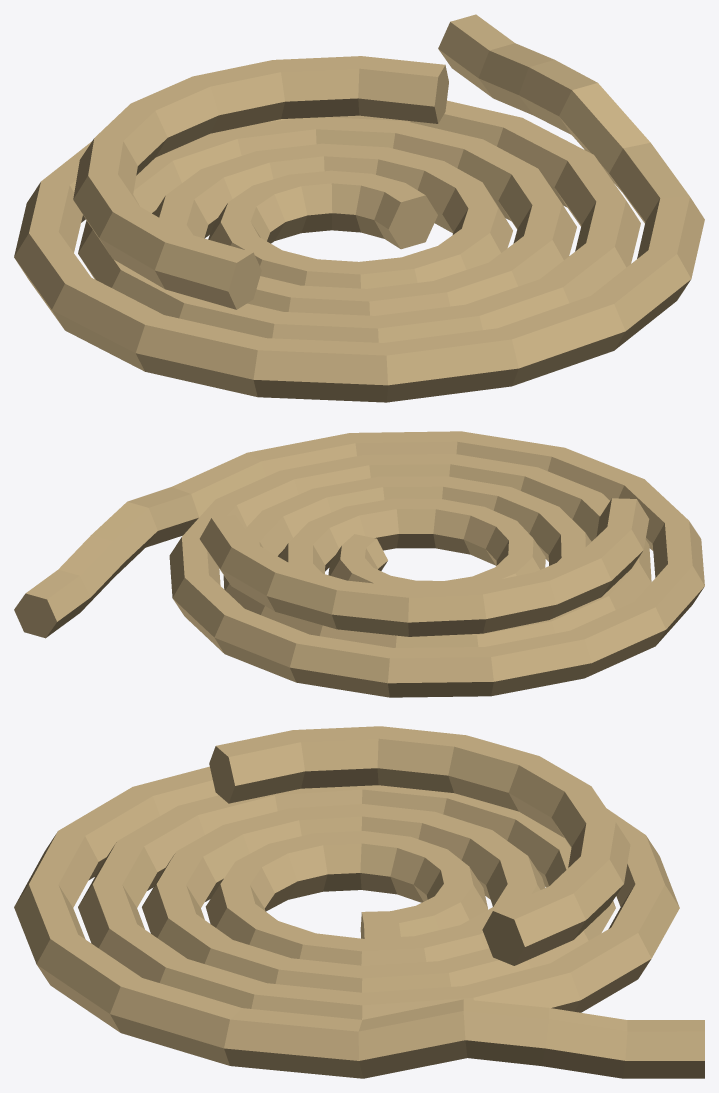
The model's file is rope-coil.glb.
3 views of the same model, one above another, from view 1: azimuth 30°, elevation 25°; view 2: azimuth 150°, elevation 25°; view 3: azimuth 270°, elevation 25° (orthographic). The views are drawn at different scales.
Parts seen in each view (by area): view 1: rope-coil; view 2: rope-coil; view 3: rope-coil.
Part boxes in pixels (x1=…): rope-coil: x1=14, y1=14, x2=704, y2=402; rope-coil: x1=14, y1=431, x2=704, y2=697; rope-coil: x1=14, y1=726, x2=704, y2=1078.
Size of the model in its own units: 0.612 by 0.0949 by 0.606.
